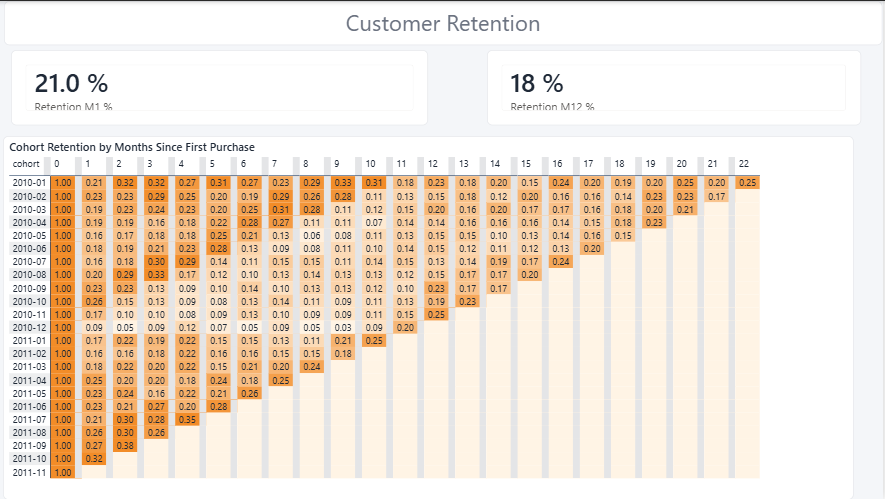

What the dashboard file says about the page in this screenshot:
{"tool":"powerbi","page":{"name":"Retention","canvas":[1280,720],"ordinal":4},"visuals":[{"type":"textbox","box":[10.1,0,1269.9,63.8],"z":0},{"type":"cardVisual","fields":{"Data":["Measures_.Retention M1 %"]},"box":[20.2,70.6,603,109.2],"z":1000},{"type":"cardVisual","fields":{"Data":["Measures_.Retention M12 %"]},"box":[708.9,70.6,540.9,109.2],"z":2000},{"type":"pivotTable","title":"Cohort Retention by Months Since First Purchase","fields":{"Columns":["fact_cohort_retention.months_since_first"],"Values":["Measures_.Retention % (cell)"],"Rows":["fact_cohort_retention.cohort"]},"box":[8.4,194.9,1229.6,525.8],"z":3000}]}

Visuals, with their boxes in screenshot pixels (x1, y1, x2, y2), scaled from the page's 1280x720 canvas onto the 885x499 screenshot:
textbox: l=7, t=0, r=884, b=44
cardVisual - Measures_.Retention M1 %: l=14, t=49, r=431, b=125
cardVisual - Measures_.Retention M12 %: l=490, t=49, r=864, b=125
"Cohort Retention by Months Since First Purchase" pivotTable: l=6, t=135, r=856, b=498
